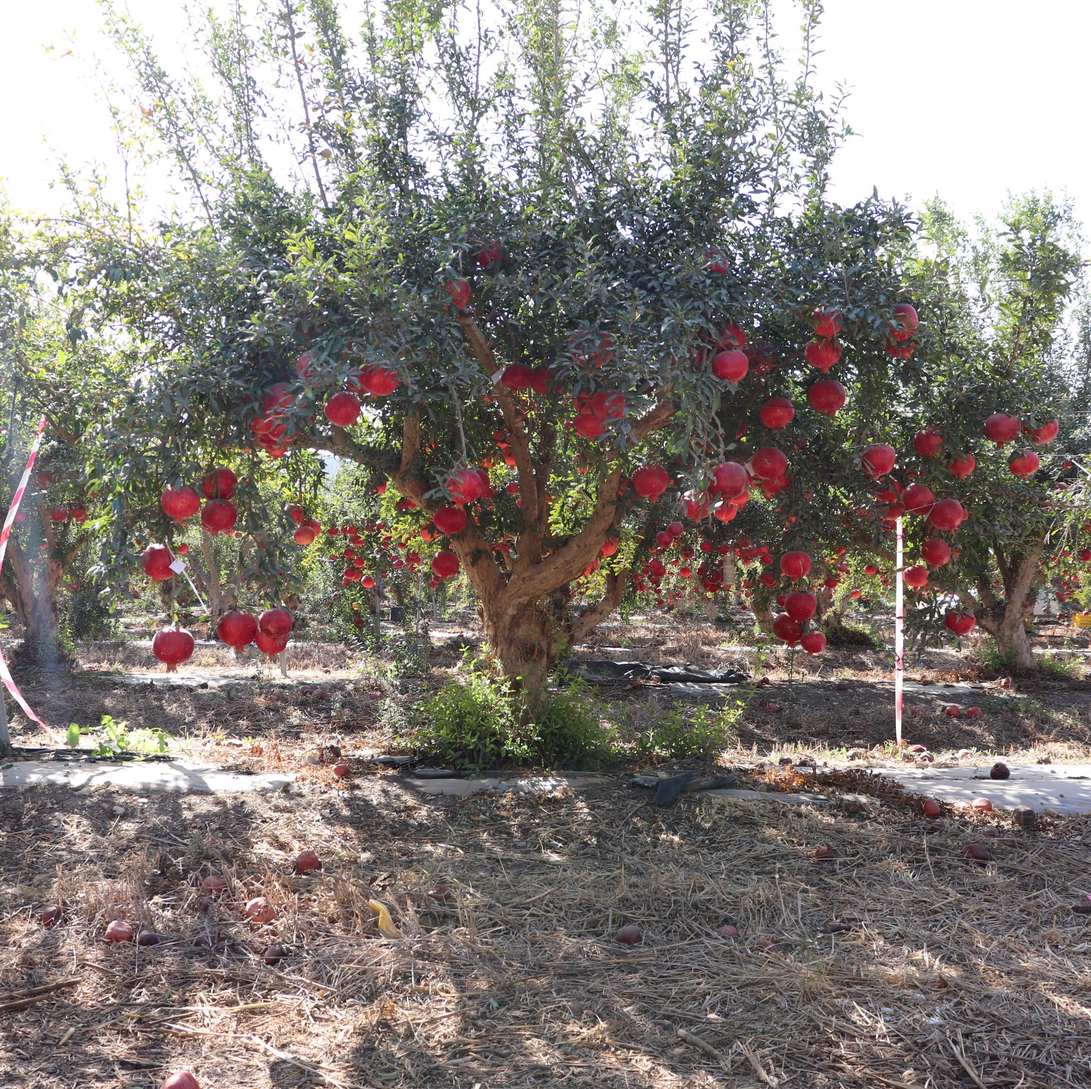defected: (246, 896, 277, 925), (159, 1069, 201, 1089), (102, 919, 135, 943), (264, 943, 289, 969), (295, 852, 321, 873), (42, 902, 63, 928), (198, 876, 228, 894), (615, 926, 645, 944), (136, 930, 161, 951), (963, 845, 990, 863), (1012, 806, 1036, 824), (922, 798, 941, 818), (990, 762, 1011, 780), (755, 941, 779, 955), (816, 843, 835, 860), (971, 798, 993, 812), (942, 705, 960, 720), (980, 826, 999, 839), (718, 925, 738, 937), (966, 707, 983, 719), (911, 705, 926, 718), (334, 764, 349, 775), (312, 688, 324, 700), (765, 704, 777, 714), (300, 685, 311, 693), (267, 696, 278, 702), (304, 690, 313, 696)
